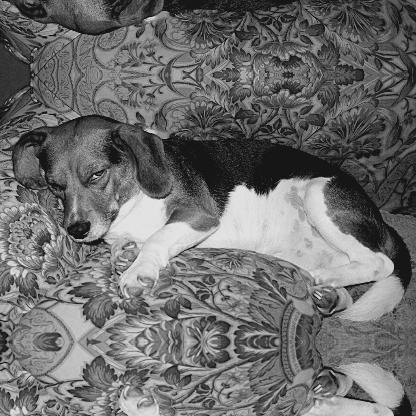Dog: (11, 114, 412, 322), (11, 360, 413, 415)
